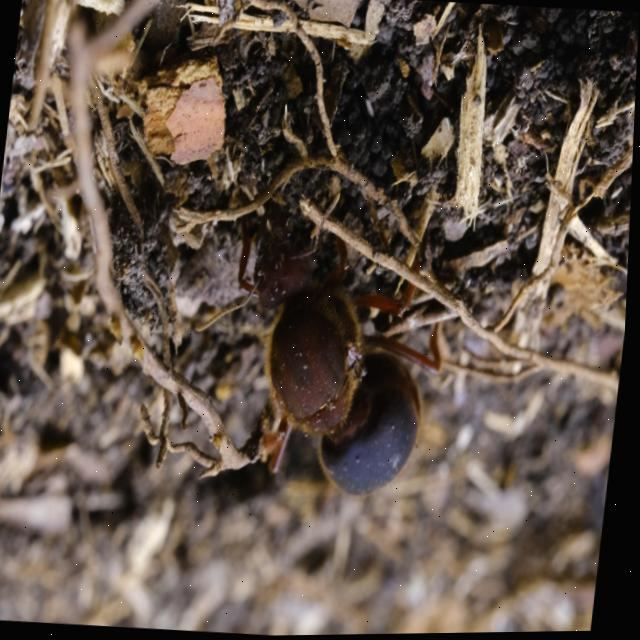Alive-Female-Dealate: (179, 182, 462, 505)
